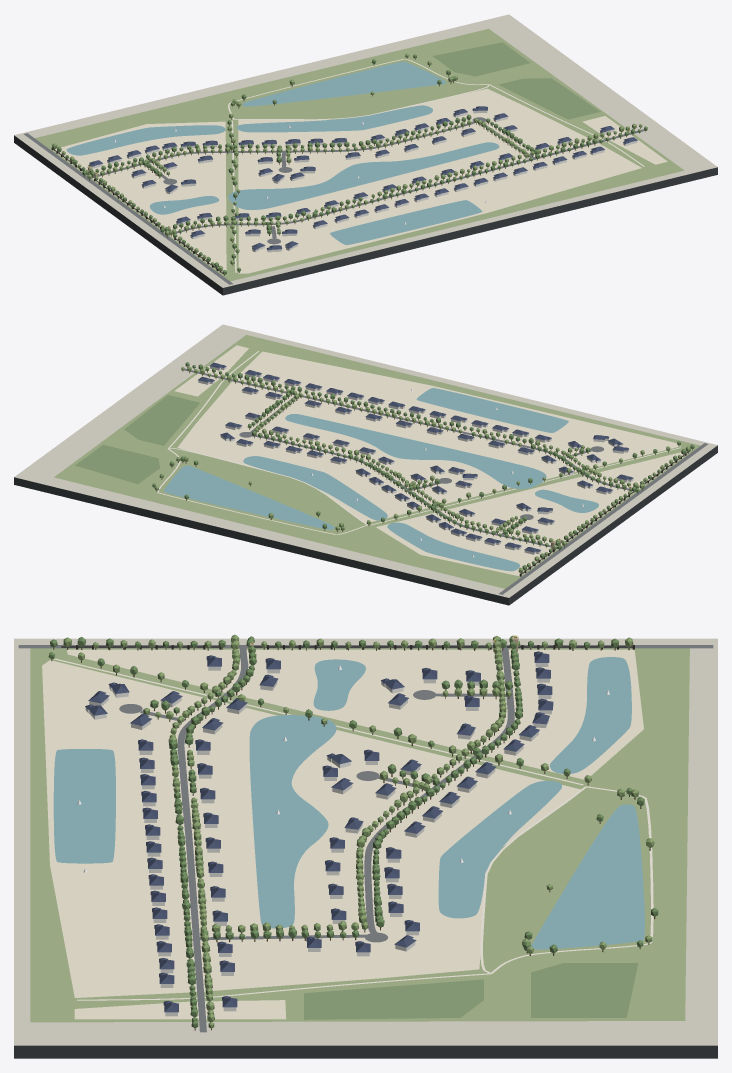
The model's file is belmont.glb.
The picture shows the model from 3 angles, top to bottom: view 1: azimuth 30°, elevation 25°; view 2: azimuth 150°, elevation 25°; view 3: azimuth 270°, elevation 25°; orthographic projection. The views are drawn at different scales.
Visible parts, largest first — view 1: Homesites_2, Grass, Surround, Homesites_1, Plinth, Pond_5, Pond_2, Pond_6, Pond_3, Field_2, Field_1, Pond_1 (+5 smaller); view 2: Homesites_2, Grass, Surround, Homesites_1, Plinth, Pond_5, Pond_2, Pond_6, Pond_3, Field_2, Field_1, Pond_1 (+4 smaller); view 3: Homesites_2, Grass, Surround, Homesites_1, Pond_5, Plinth, Pond_2, Pond_6, Pond_3, Field_2, Field_1, Pond_1 (+9 smaller).
Boxes of the visible parts, x1,y1,x2,y2 form: Homesites_2: (238,88,641,273); Grass: (35,29,684,281); Surround: (14,14,717,287); Homesites_1: (53,121,226,272); Plinth: (14,135,717,295); Pond_5: (228,142,499,209); Pond_2: (242,61,446,106); Pond_6: (330,200,482,245); Pond_3: (236,105,432,132); Field_2: (498,78,600,119); Field_1: (432,42,530,76); Pond_1: (66,125,225,155); Homesites_2: (177,351,680,523); Grass: (54,335,700,588); Surround: (14,324,717,597); Homesites_1: (376,452,687,576); Plinth: (14,445,717,605); Pond_5: (285,414,546,489); Pond_2: (163,465,334,529); Pond_6: (416,388,568,432); Pond_3: (243,456,387,520); Field_2: (124,395,199,445); Field_1: (75,444,159,484); Pond_1: (387,522,519,571); Homesites_2: (42,660,580,997); Grass: (30,648,689,1022); Surround: (14,638,717,1045); Homesites_1: (67,649,643,779); Pond_5: (249,715,336,928); Plinth: (14,1045,717,1058); Pond_2: (531,804,644,949); Pond_6: (53,749,115,863); Pond_3: (438,781,561,918); Field_2: (304,979,483,1019); Field_1: (531,963,638,1017); Pond_1: (550,657,631,773).
Bounding box in the file's own units: 206 × 6.59 × 150.
